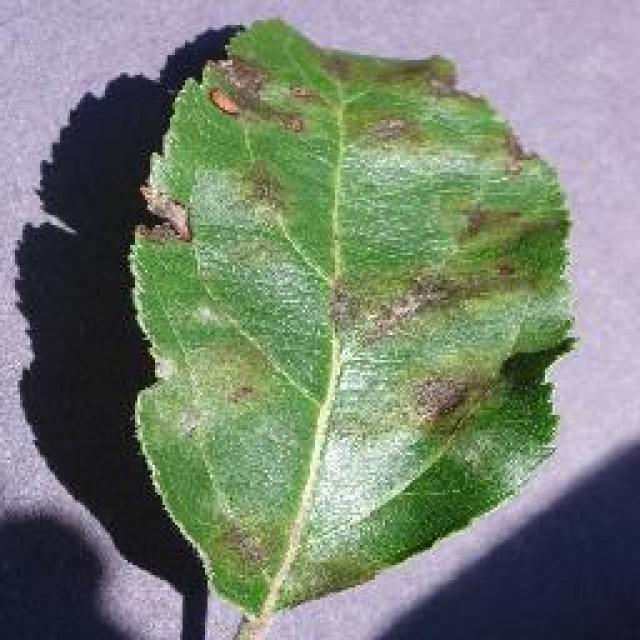apple scab disease: (122, 15, 580, 637)
